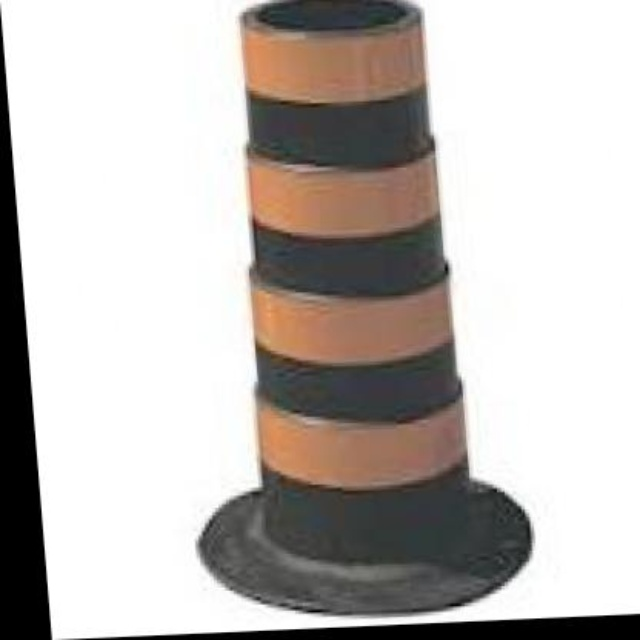obstacle: (223, 0, 478, 572)
